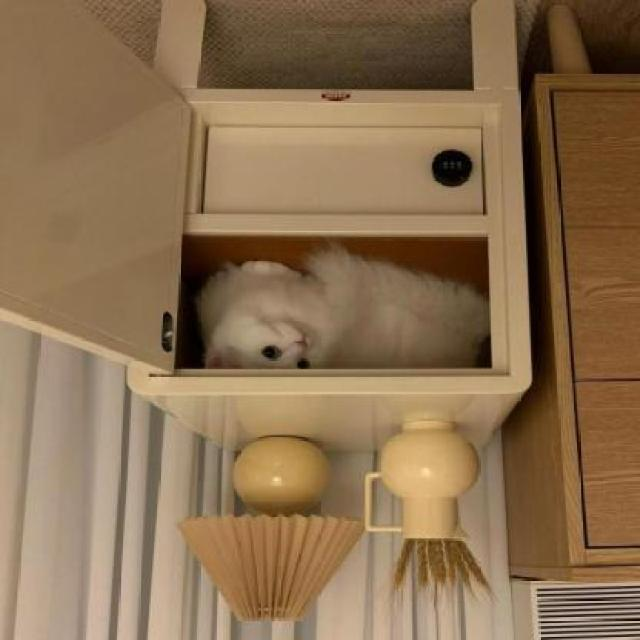cat: (189, 234, 493, 374)
